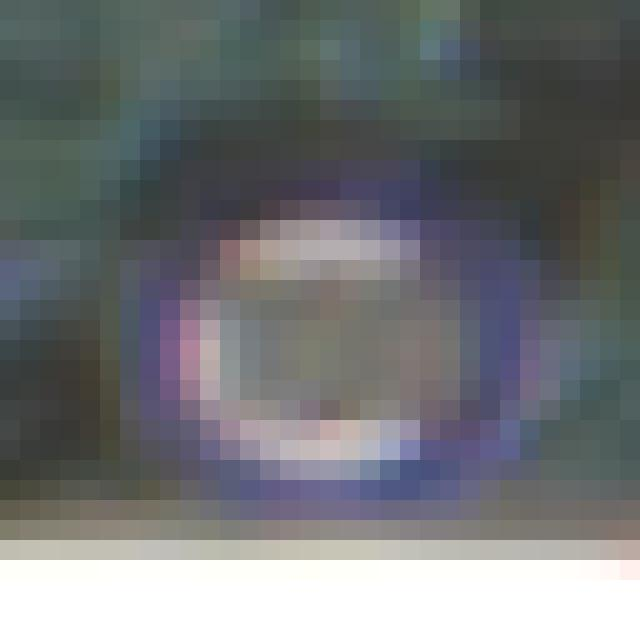SPEED LIMIT 100: (127, 189, 521, 508)
